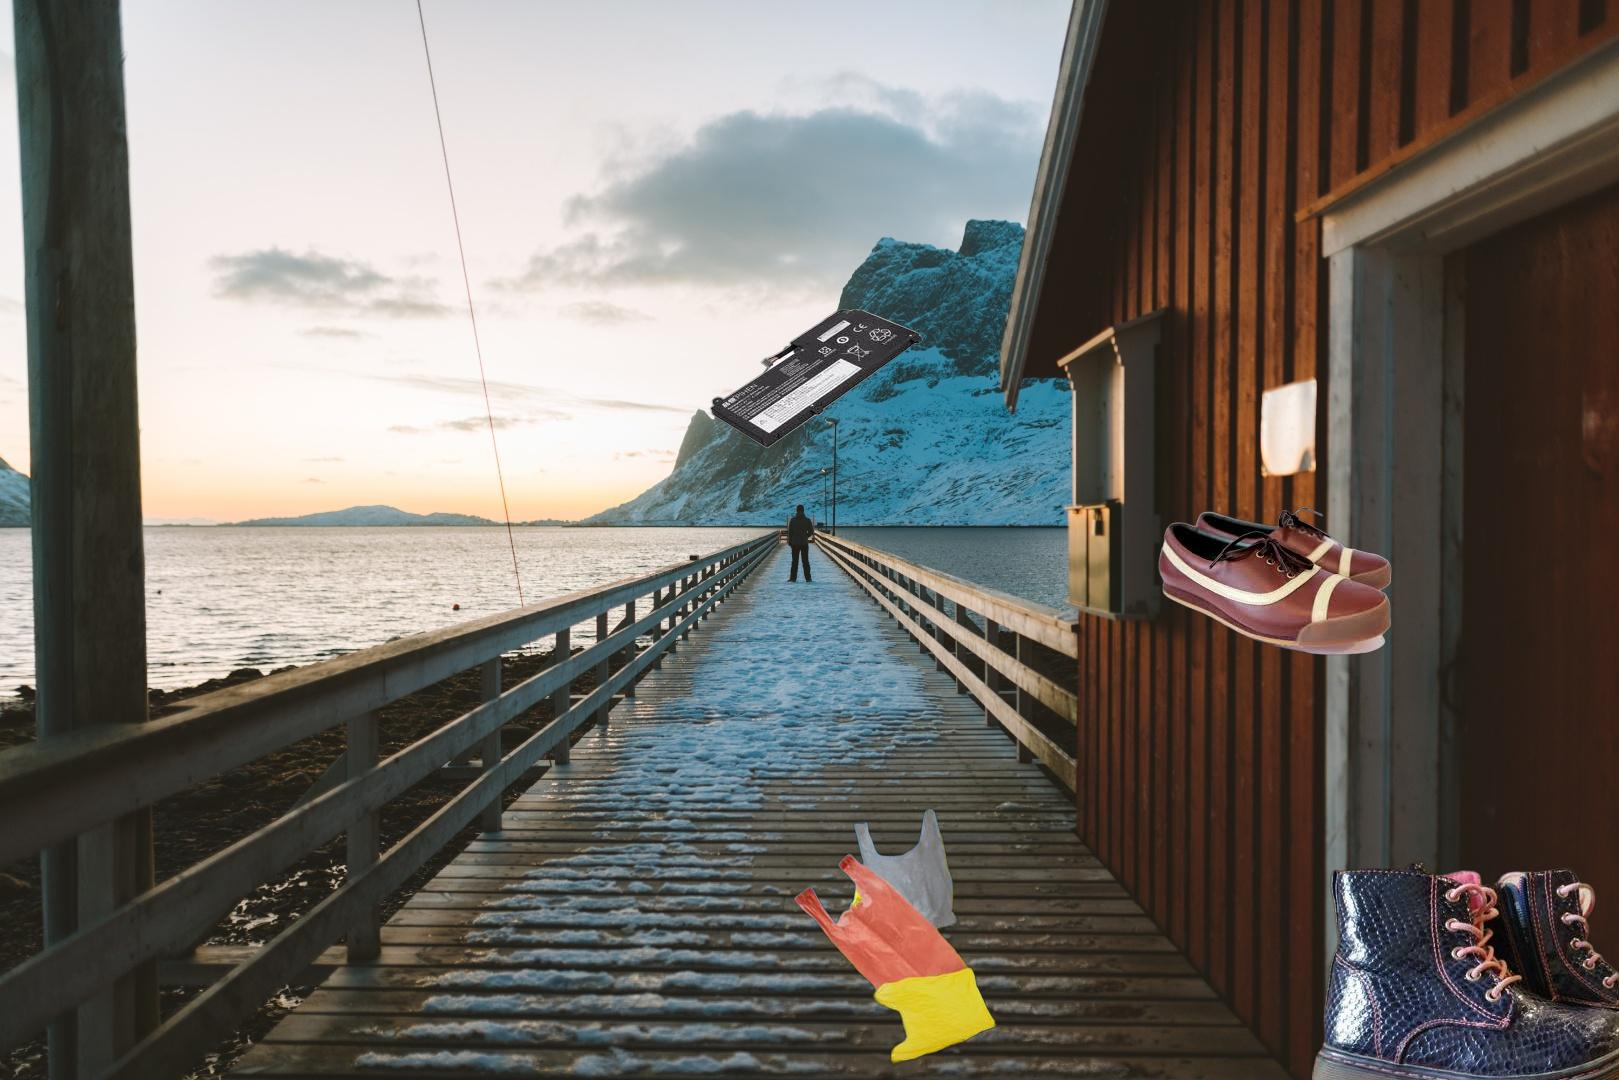battery: (708, 306, 925, 451)
plastic-bag: (791, 806, 1005, 1075)
shoes: (1312, 858, 1619, 1080), (1155, 504, 1394, 658)
